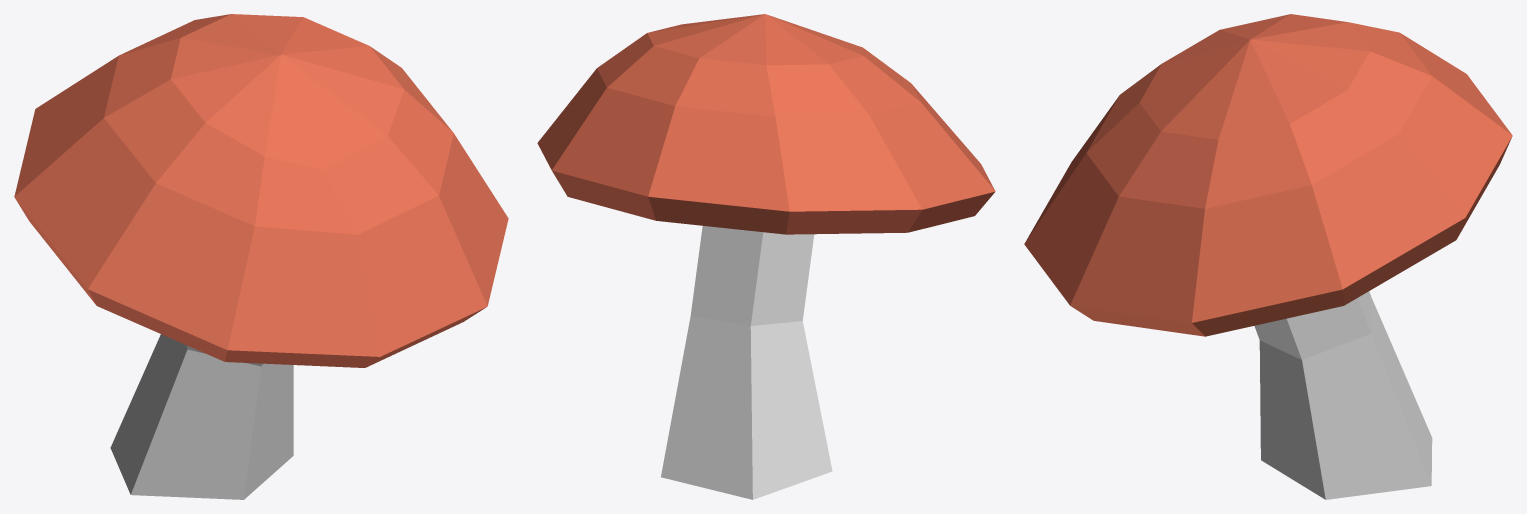
The model's file is Mushroom_2.fbx.
The picture shows the model from 3 angles, left to right: view 1: azimuth 30°, elevation 25°; view 2: azimuth 150°, elevation 25°; view 3: azimuth 270°, elevation 25°; orthographic projection. The views are drawn at different scales.
Parts seen in each view (by area): view 1: Mushroom_2; view 2: Mushroom_2; view 3: Mushroom_2.
Boxes of the visible parts, bbox=[...] form: Mushroom_2: bbox=[14, 14, 508, 499]; Mushroom_2: bbox=[537, 14, 995, 499]; Mushroom_2: bbox=[1024, 14, 1512, 499].
Size of the model in its own units: 0.3135 by 0.3129 by 0.3177.
